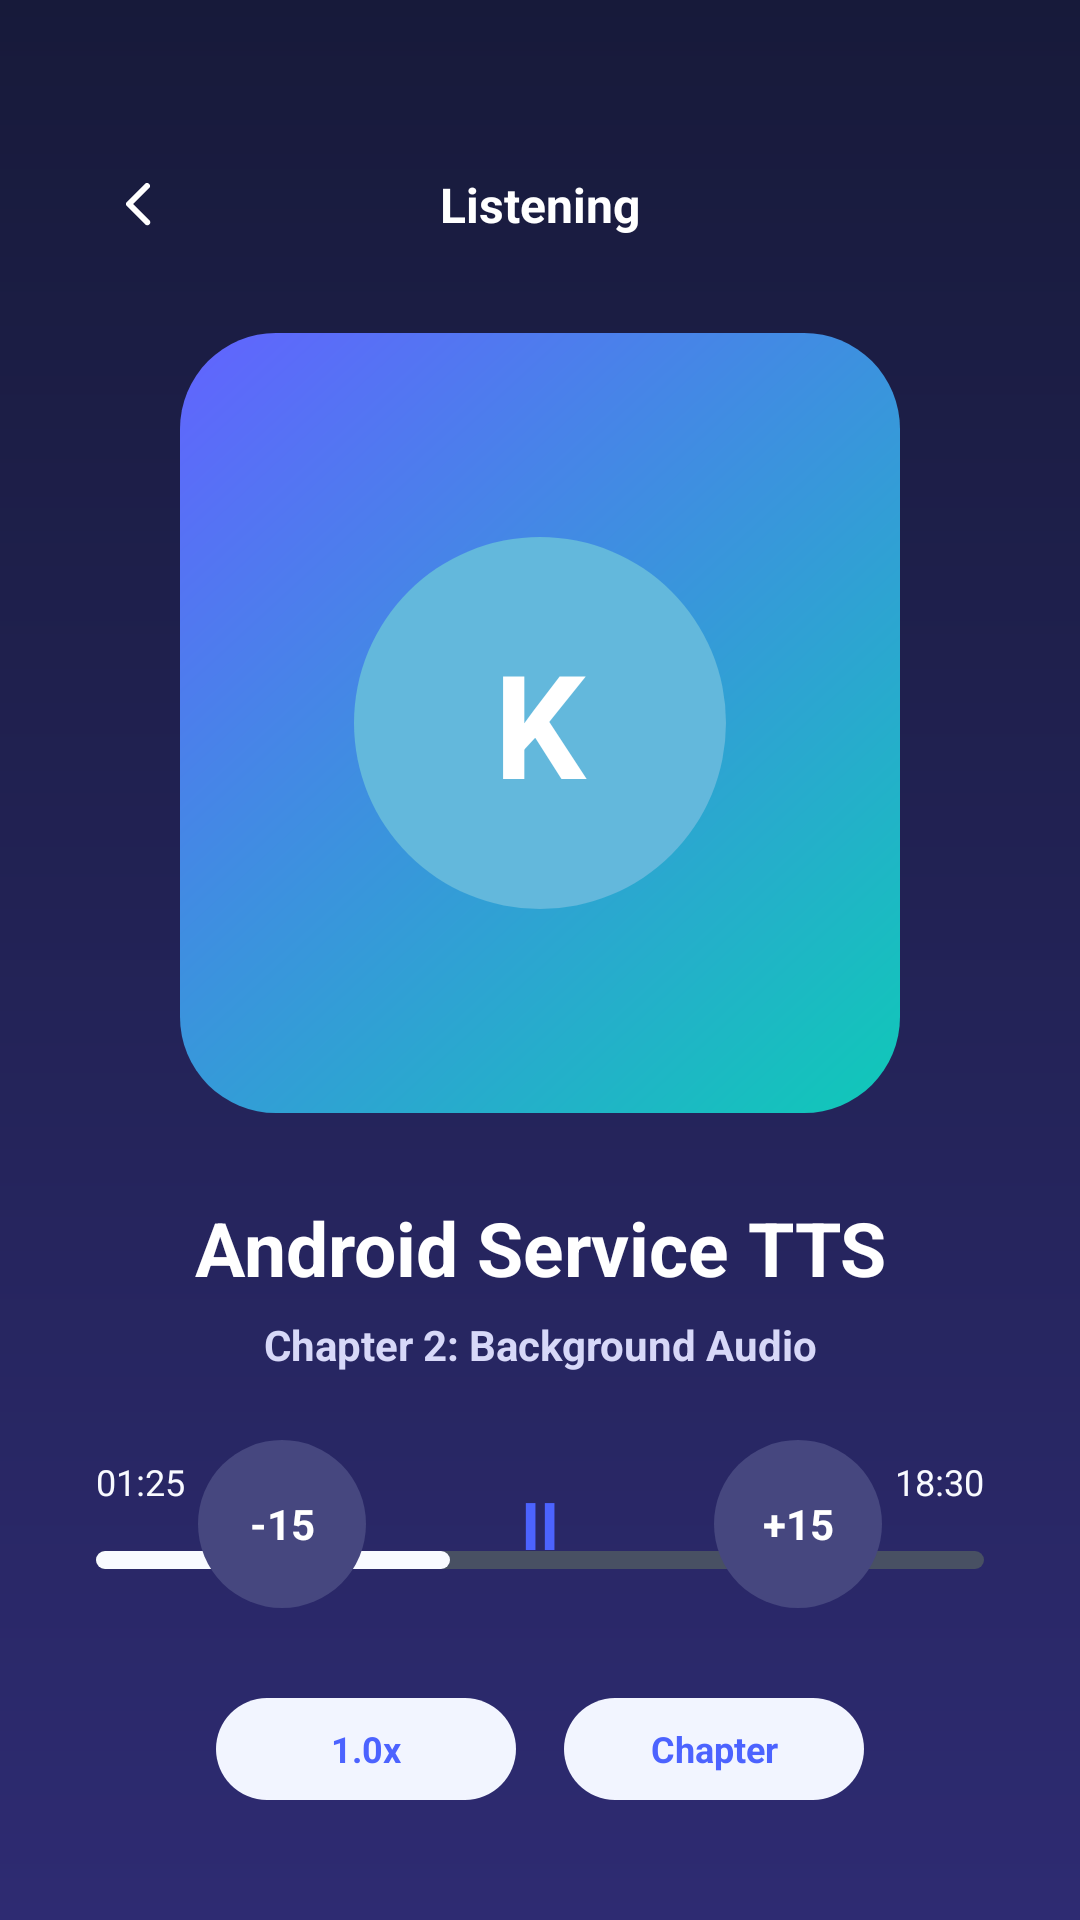

Icons on this 1080px x 1920px Android screen, each with the point to tap as point (x, y):
Back: point (138, 204)
